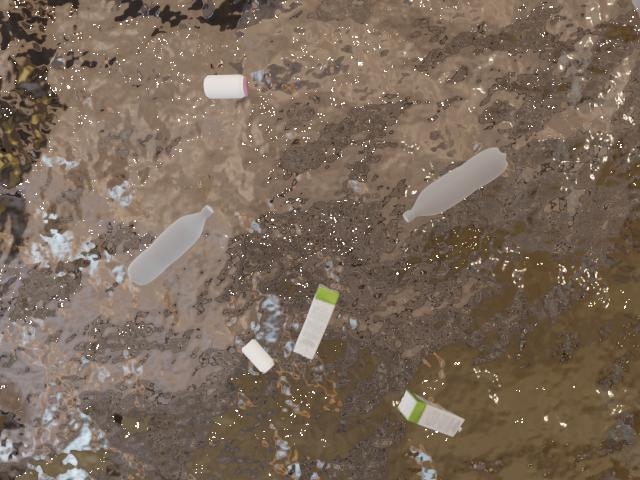Metal: (165, 64, 261, 121), (225, 324, 279, 383)
Plastic: (393, 140, 522, 244), (106, 193, 228, 291)
Trash: (390, 383, 473, 446), (294, 274, 342, 365)
